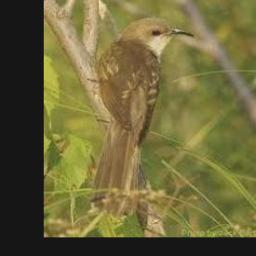Cuckoo: (88, 16, 194, 218)
